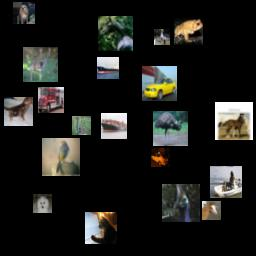automobile: (142, 66, 177, 101), (151, 148, 170, 167)
bird: (42, 138, 80, 176), (162, 184, 200, 222), (153, 111, 188, 146), (72, 116, 91, 135)
cat: (85, 212, 117, 244), (4, 97, 33, 126)
deer: (23, 47, 58, 82)
dog: (13, 2, 35, 24), (33, 194, 52, 213)
frog: (174, 16, 203, 45)
ship: (210, 166, 242, 198), (101, 113, 127, 139), (97, 57, 119, 79)
truck: (38, 87, 64, 113)
